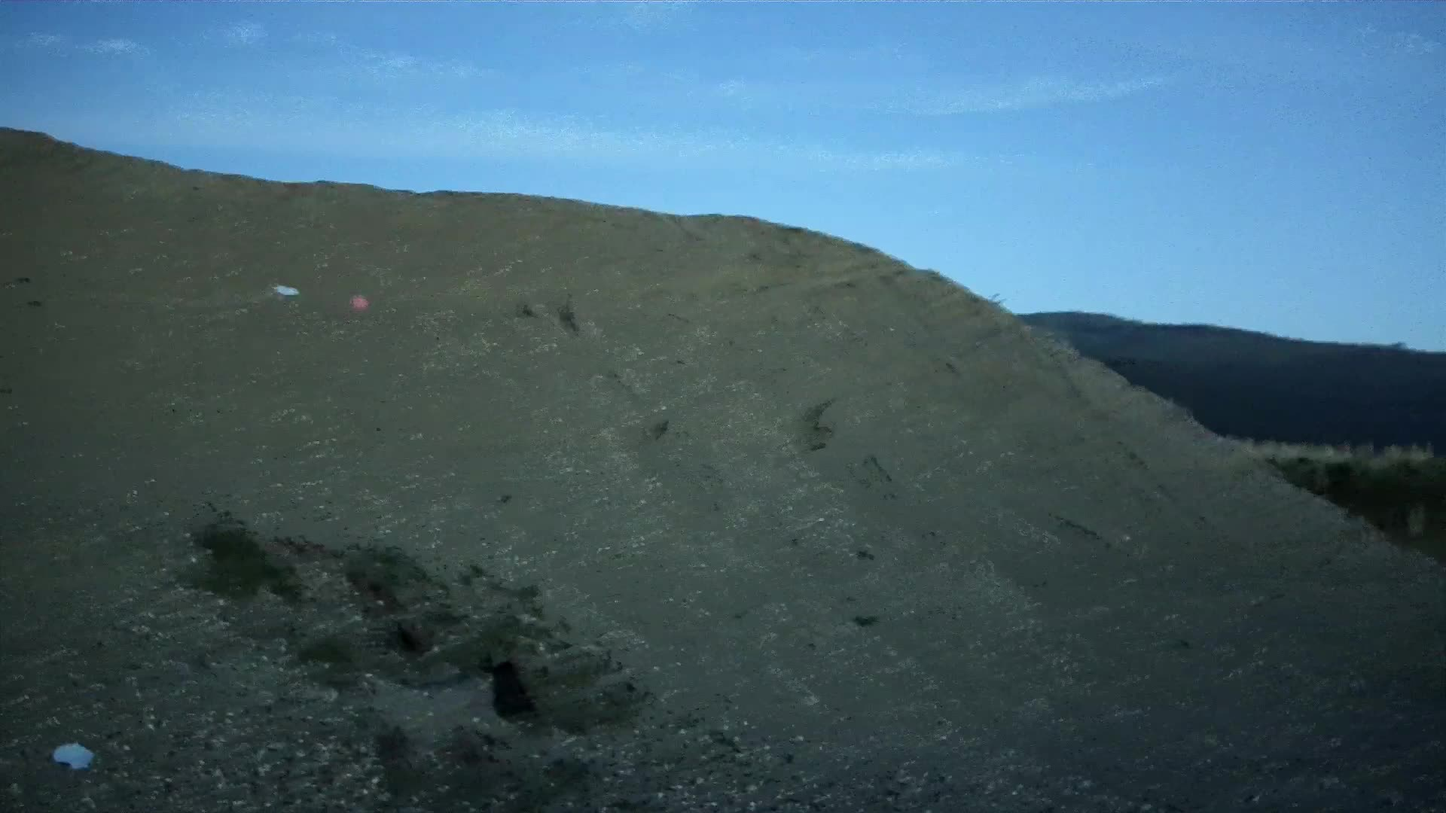Target: (51, 738, 97, 774)
